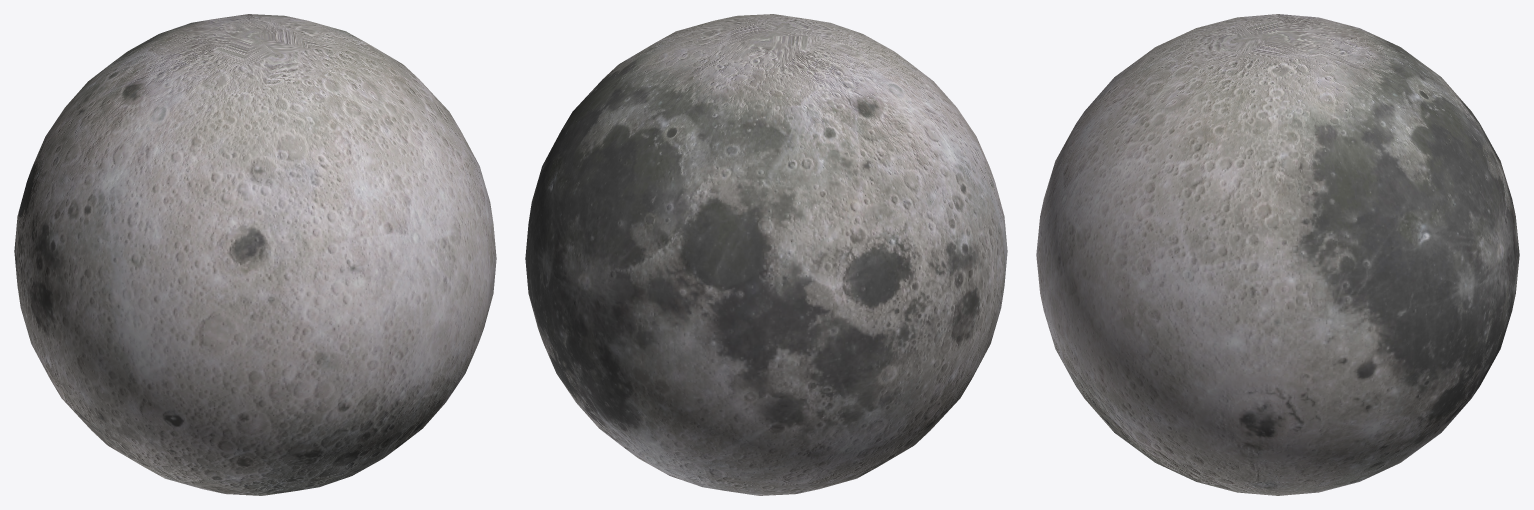
The model's file is moon.fbx.
3 renders of one model, left to right at view 1: azimuth 30°, elevation 25°; view 2: azimuth 150°, elevation 25°; view 3: azimuth 270°, elevation 25°, orthographic.
Parts seen in each view (by area): view 1: moon; view 2: moon; view 3: moon.
Boxes of the visible parts, x1,y1,x2,y2 form: moon: (14,14,496,495); moon: (525,14,1007,495); moon: (1036,14,1519,495).
Size of the model in its own units: 2 by 2 by 2.
Materials: 1 (1 with a texture image).
